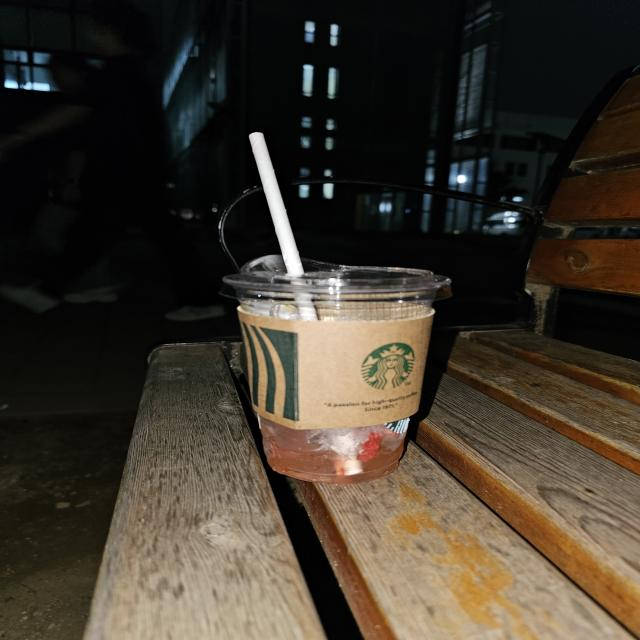cup: (218, 249, 456, 489)
